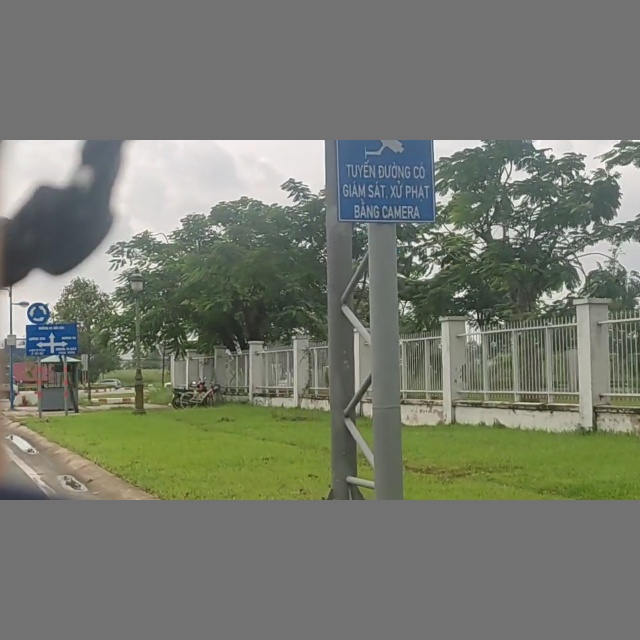R.303: (27, 300, 51, 324)
